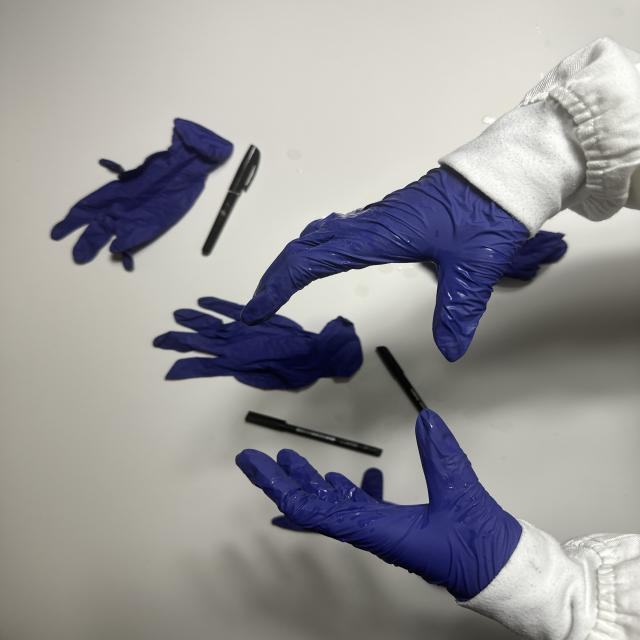gloves_contaminated: (241, 168, 528, 361), (236, 410, 523, 600)
